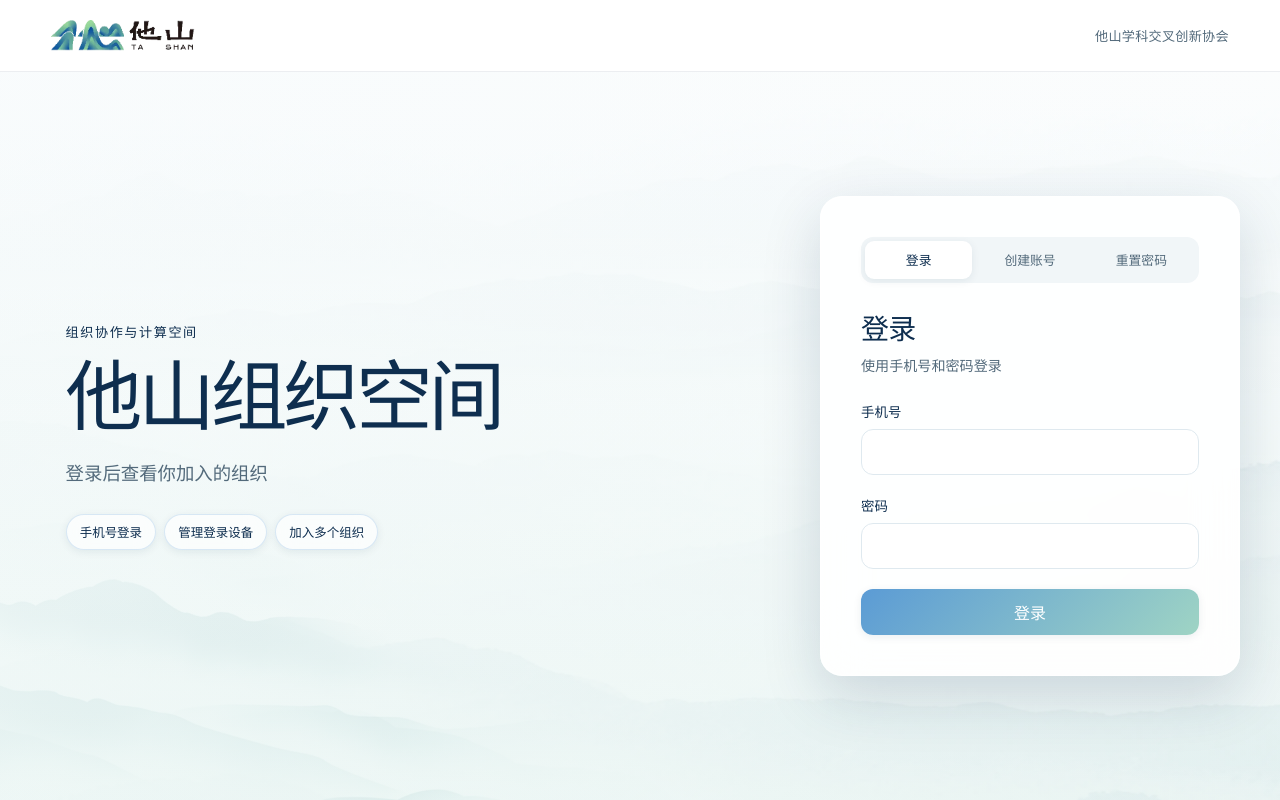
it: routed Phase 0 Web › mounts the 组织文件 list and detail route
Expected: the heading "登录" is shown, [861, 312, 915, 346]
Type "13800138000" into the field labelled "手机号" at (1030, 452), box [861, 429, 1199, 475]
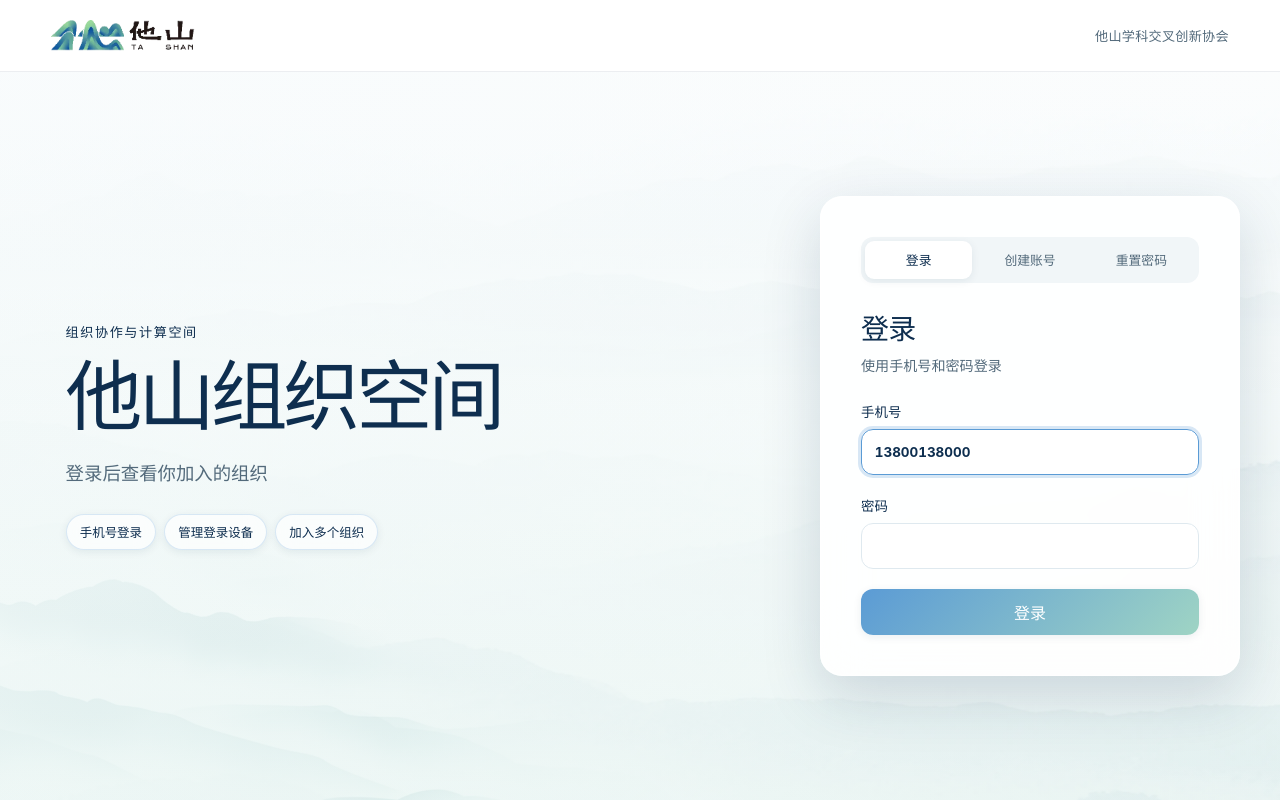
Type "CorrectHorseBattery9" into the password field labelled "密码" at (1030, 546), box [861, 523, 1199, 569]
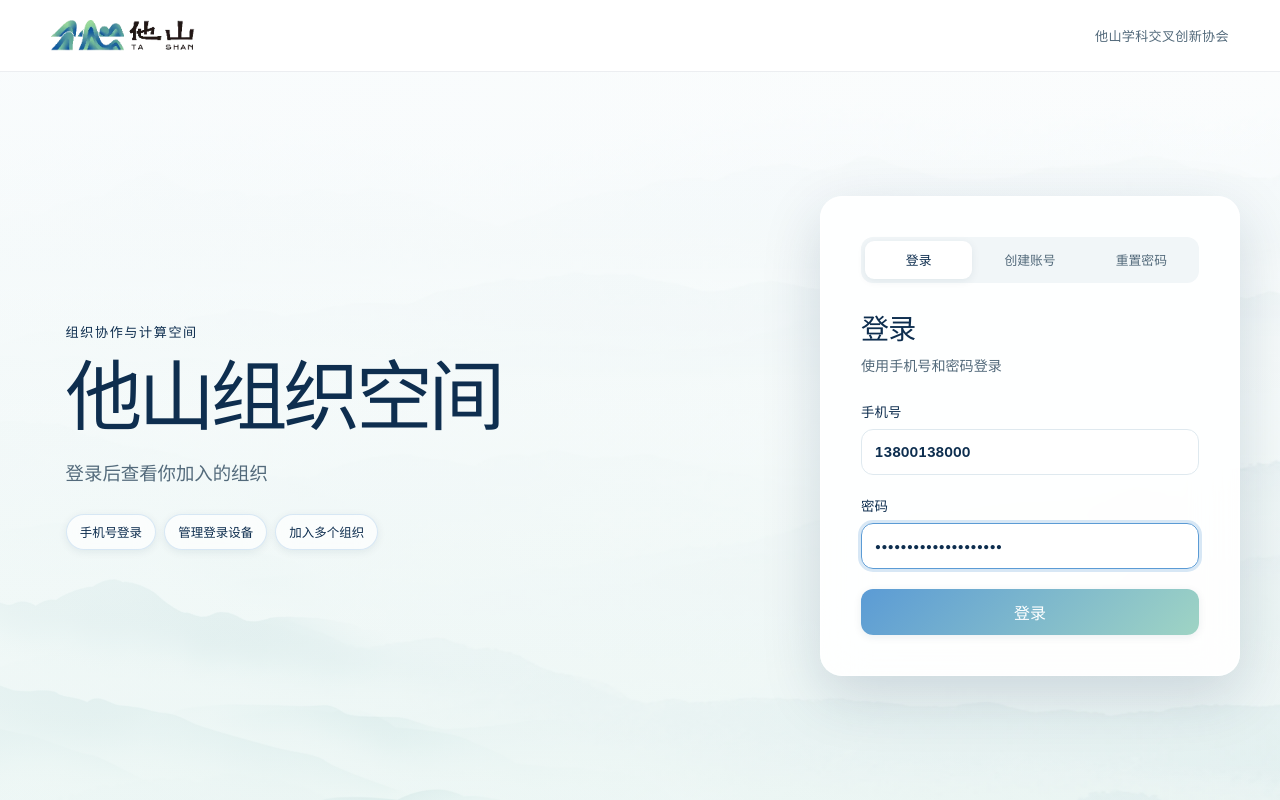
Click the button "登录" at (1030, 612), box [861, 589, 1199, 635]
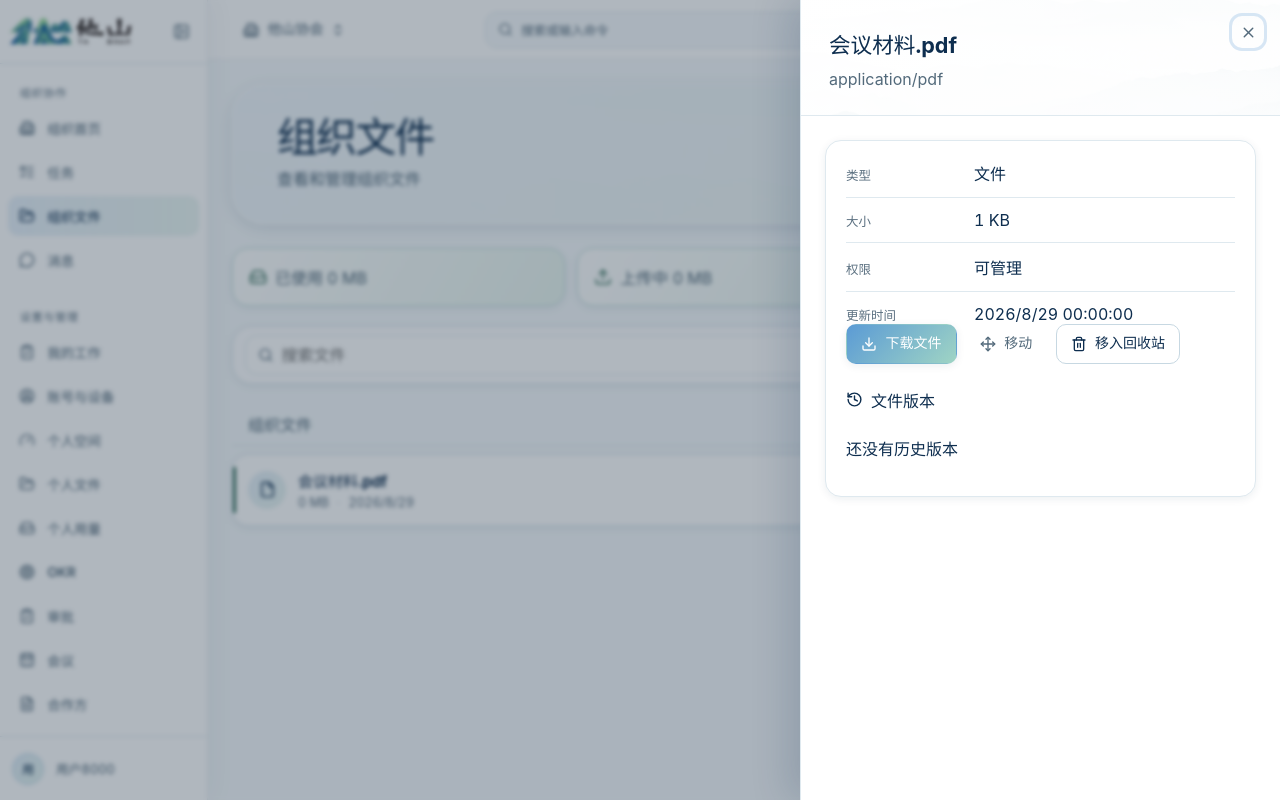
Expected: the heading "组织文件" is shown, [277, 115, 434, 159]
Expected: the dialog "会议材料.pdf" is shown, [800, 0, 1279, 799]
